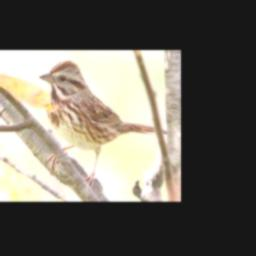Sparrow: (37, 58, 169, 190)
